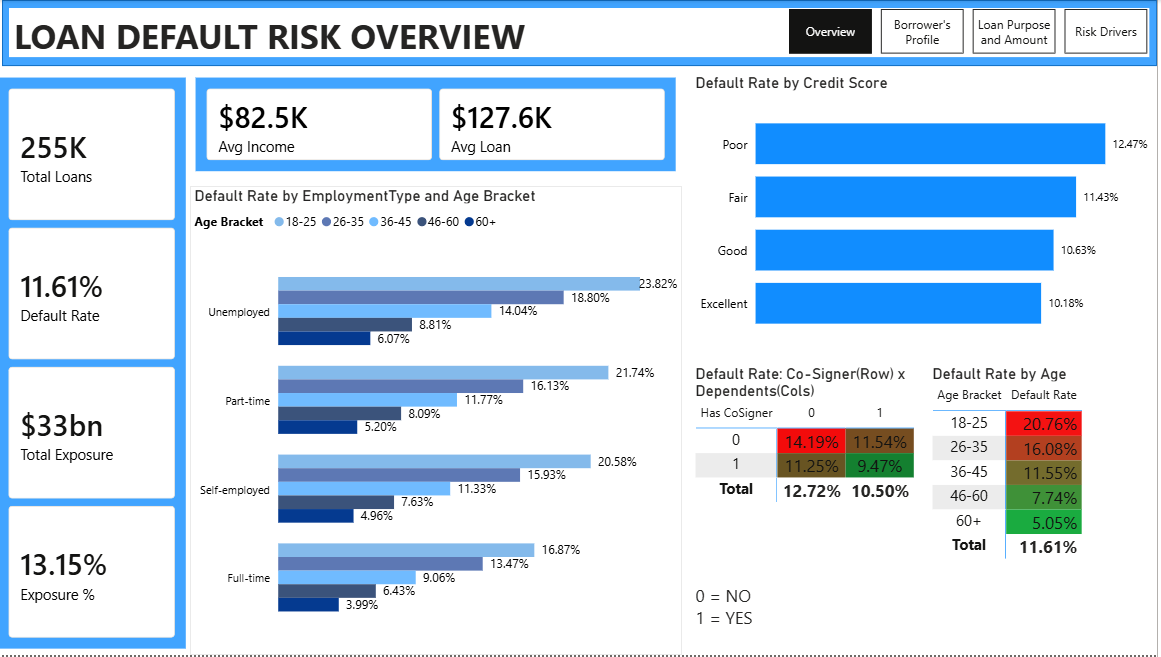

Layout of this report page (visuals, bound fields, positions):
{"tool":"powerbi","page":{"name":"Overview","canvas":[1280,720],"ordinal":0},"visuals":[{"type":"shape","box":[9.9,0,1270.1,72.6],"z":0},{"type":"textbox","box":[17.6,8.8,1253.6,53.9],"z":1000},{"type":"cardVisual","fields":{"Data":["Loan_default.Total Loans","Loan_default.Default Rate","Loan_default.Total Exposure","Loan_default.Exposure %"]},"box":[0,80.3,217.7,640],"z":2000},{"type":"clusteredBarChart","title":"Default Rate by EmploymentType and Age Bracket","fields":{"Category":["EmploymentType.EmploymentType"],"Y":["Loan_default.Default Rate"],"Series":["Loan_default.Age Bracket "]},"box":[217.1,204.3,541,515.5],"z":3000},{"type":"clusteredBarChart","fields":{"Y":["Loan_default.Default Rate"],"Category":["Loan_default.Credit Score "]},"box":[767.1,80.3,512.9,306],"z":4000},{"type":"cardVisual","fields":{"Data":["Loan_default.Avg Income","Loan_default.Avg Loan"]},"box":[217.7,80.3,539.9,113.3],"z":5000},{"type":"pivotTable","title":"Default Rate: Co-Signer(Row) x Dependents(Cols)","fields":{"Values":["Loan_default.Default Rate"],"Rows":["Loan_default.HasCoSigner"],"Columns":["Loan_default.HasDependents"]},"box":[767.1,400.6,250.9,319.2],"z":6000},{"type":"pivotTable","title":"Default Rate by Age","fields":{"Values":["Loan_default.Default Rate"],"Rows":["Loan_default.Age Bracket "]},"box":[1028,400.6,252,319.2],"z":7000},{"type":"textbox","box":[767.1,637.2,90.2,71.5],"z":8000},{"type":"pageNavigator","box":[875,10.4,397.2,49.5],"z":9000}]}

Visuals, with their boxes in screenshot pixels (x1, y1, x2, y2), scaled from the page's 1280x720 canvas onto the 1161x657 screenshot:
shape: region(9, 0, 1160, 66)
textbox: region(16, 8, 1153, 57)
cardVisual - Loan_default.Total Loans x Loan_default.Default Rate: region(0, 73, 197, 656)
"Default Rate by EmploymentType and Age Bracket" clusteredBarChart: region(197, 186, 688, 656)
clusteredBarChart - Loan_default.Default Rate x Loan_default.Credit Score : region(696, 73, 1160, 352)
cardVisual - Loan_default.Avg Income x Loan_default.Avg Loan: region(197, 73, 687, 177)
"Default Rate: Co-Signer(Row) x Dependents(Cols)" pivotTable: region(696, 366, 923, 656)
"Default Rate by Age" pivotTable: region(932, 366, 1160, 656)
textbox: region(696, 581, 778, 647)
pageNavigator: region(794, 9, 1154, 55)
